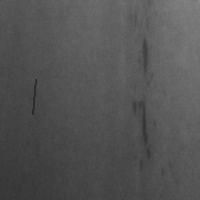inclusion: (130, 97, 155, 174), (136, 31, 153, 80), (30, 77, 37, 116)
